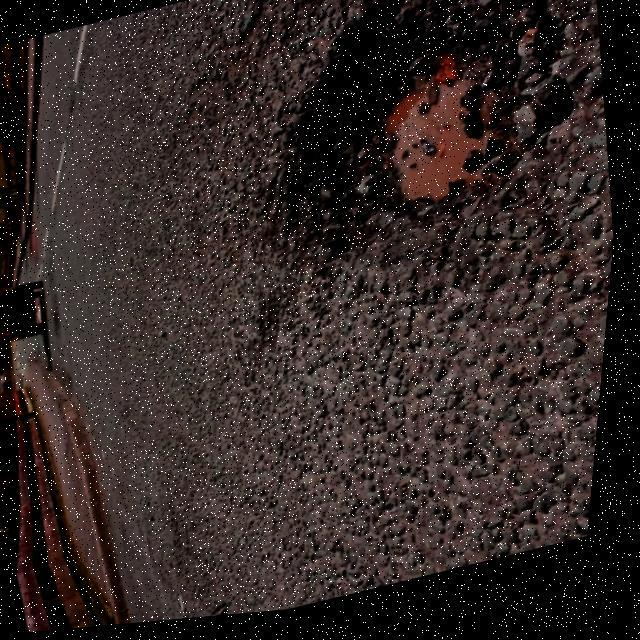pothole: (238, 0, 608, 267)
